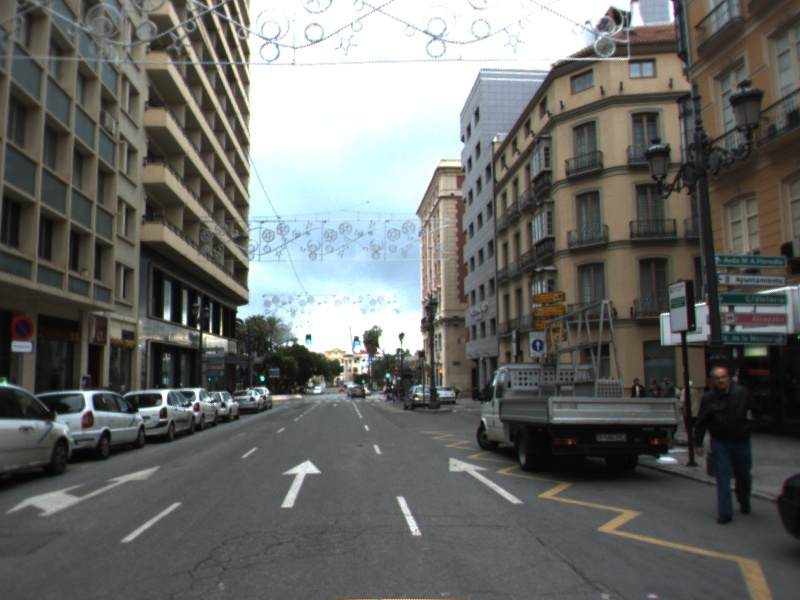STRAIGHT: (447, 455, 527, 506), (278, 457, 324, 510)
STRAIGHT_LEFT: (3, 463, 163, 520)
